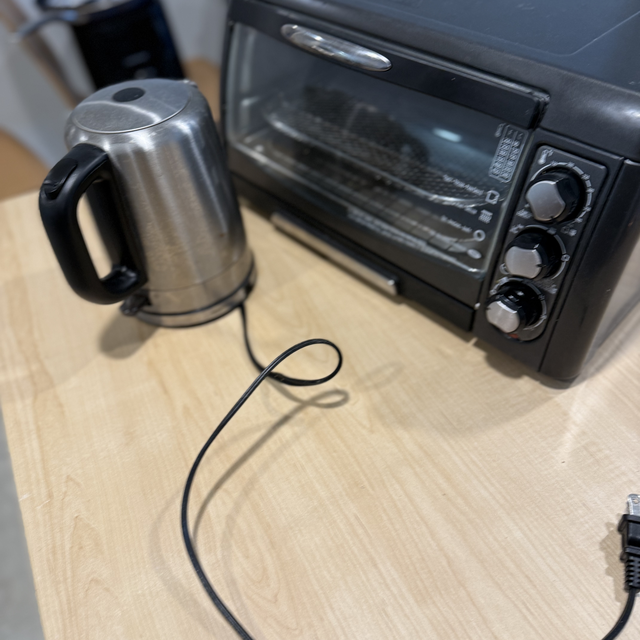Kettle: (32, 75, 272, 350)
Toaster Oven: (196, 9, 635, 384)
